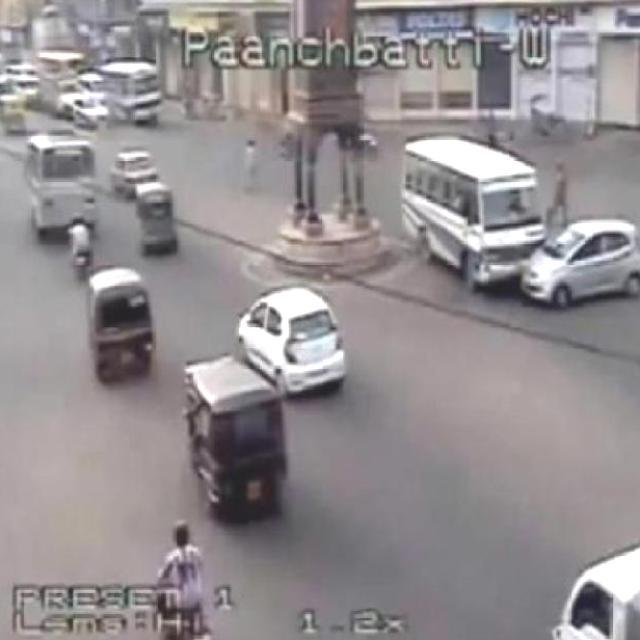accident: (395, 128, 640, 329)
